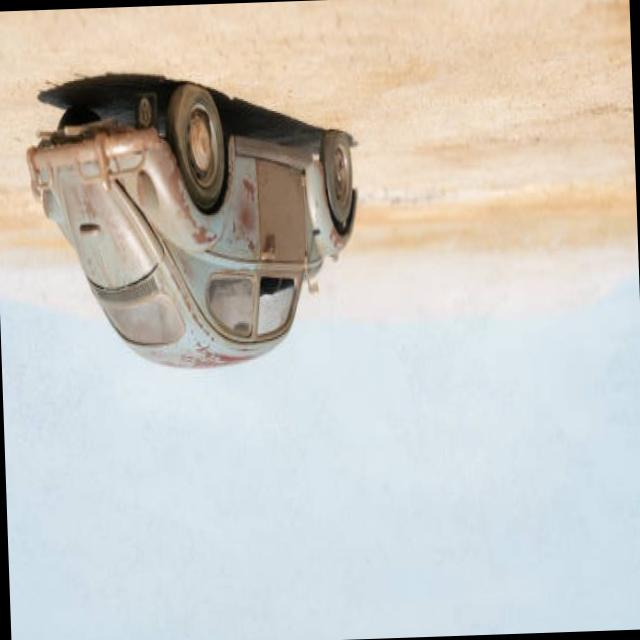car: (22, 70, 369, 368)
